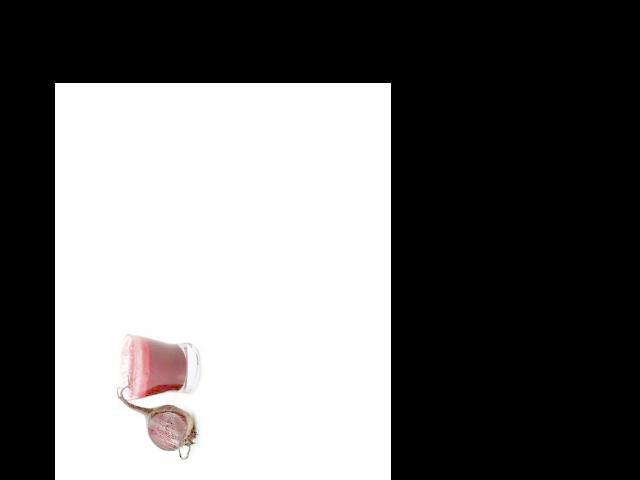beet: (116, 376, 198, 459)
